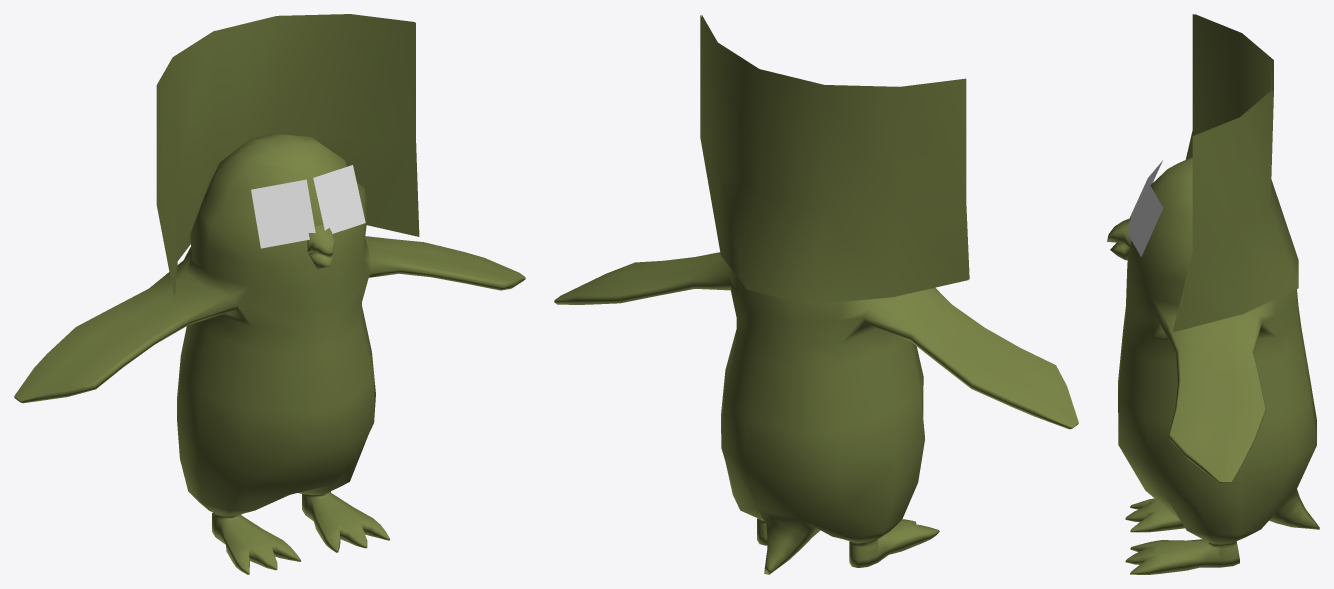
Rendered from MESH_FigPenguin01.fbx.
3 views of the same model, side by side, from view 1: azimuth 30°, elevation 25°; view 2: azimuth 150°, elevation 25°; view 3: azimuth 270°, elevation 25° (orthographic). The views are drawn at different scales.
Visible parts, largest first — view 1: MESH_FIGPENGUIN1; view 2: MESH_FIGPENGUIN1; view 3: MESH_FIGPENGUIN1.
Boxes of the visible parts, x1,y1,x2,y2 form: MESH_FIGPENGUIN1: (14,14,525,574); MESH_FIGPENGUIN1: (554,15,1078,574); MESH_FIGPENGUIN1: (1107,14,1319,574).
Bounding box in the file's own units: 160 × 145 × 60.17.
